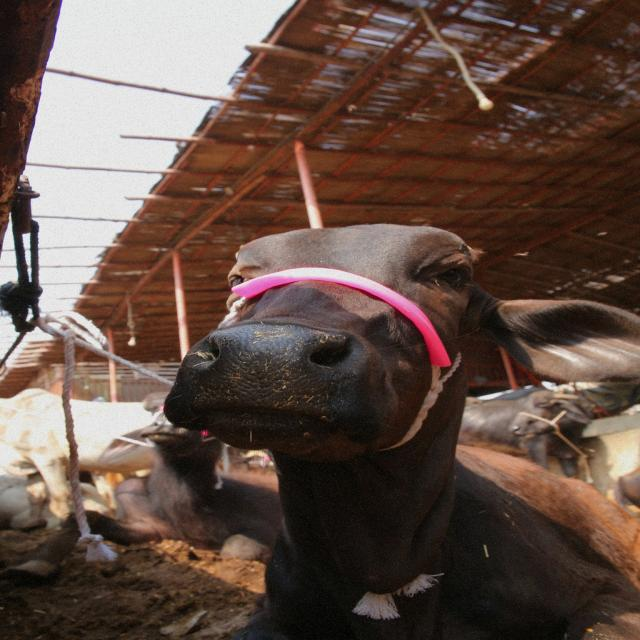muzzles: (185, 320, 369, 432)
